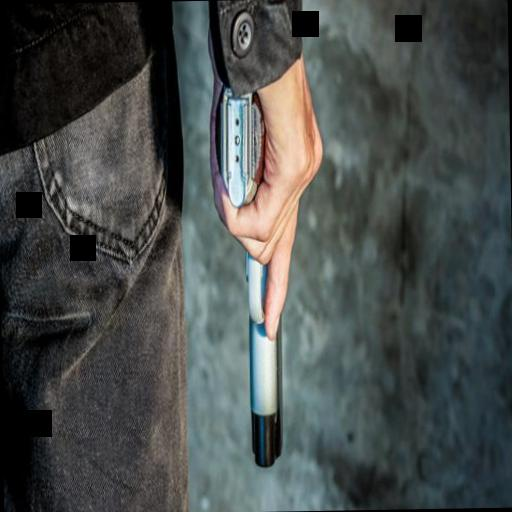Handgun: (217, 76, 294, 468)
